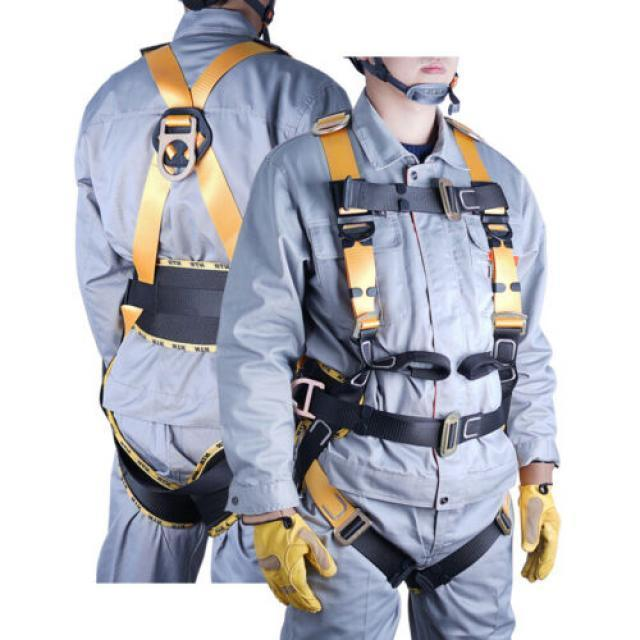No_BreathingApparatus: (373, 54, 461, 109)
